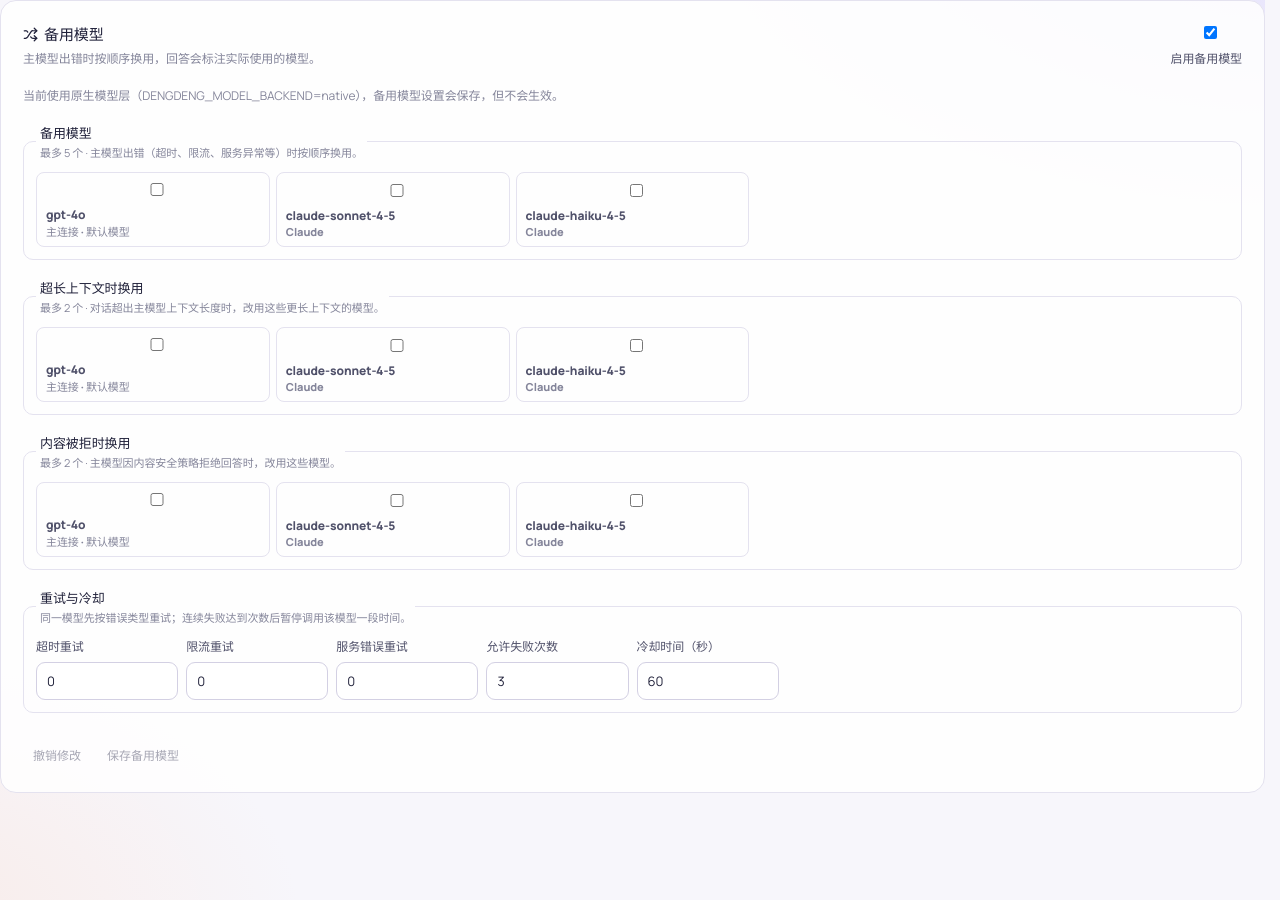
ModelFallbackSettings › reloads after a revision conflict and warns when the native backend is active
The width and height of the screenshot is (1280, 900).
expect the text "当前使用原生模型层（DENGDENG_MODEL_BACKEND=native），备用模型设置会保存，但不会生效。" is shown: met, box [23, 87, 564, 104]
Click the checkbox named "备用模型：claude-sonnet-4-5（Claude）" at (397, 190), box [290, 184, 504, 197]
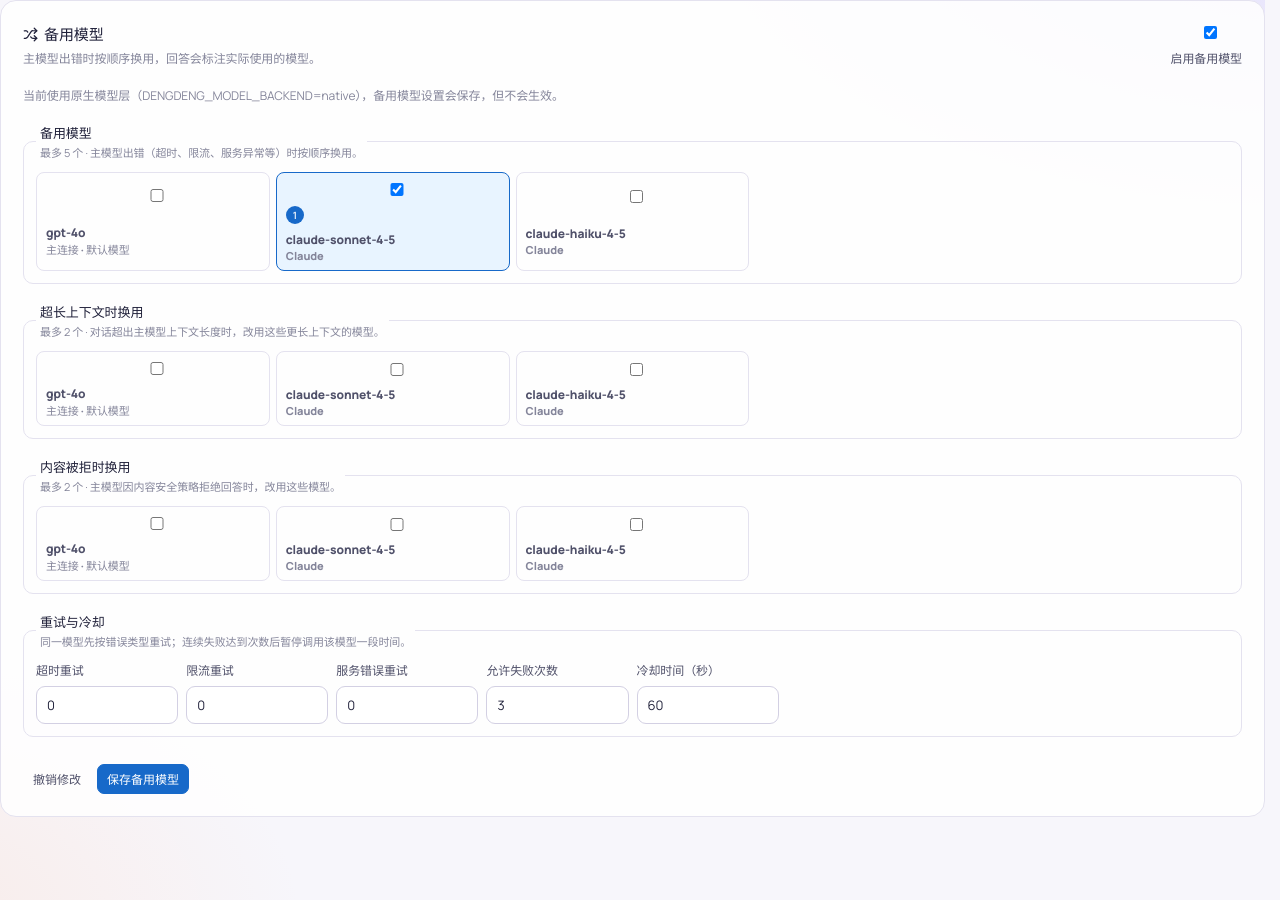
Click the button "保存备用模型" at (143, 779), box [97, 764, 189, 794]
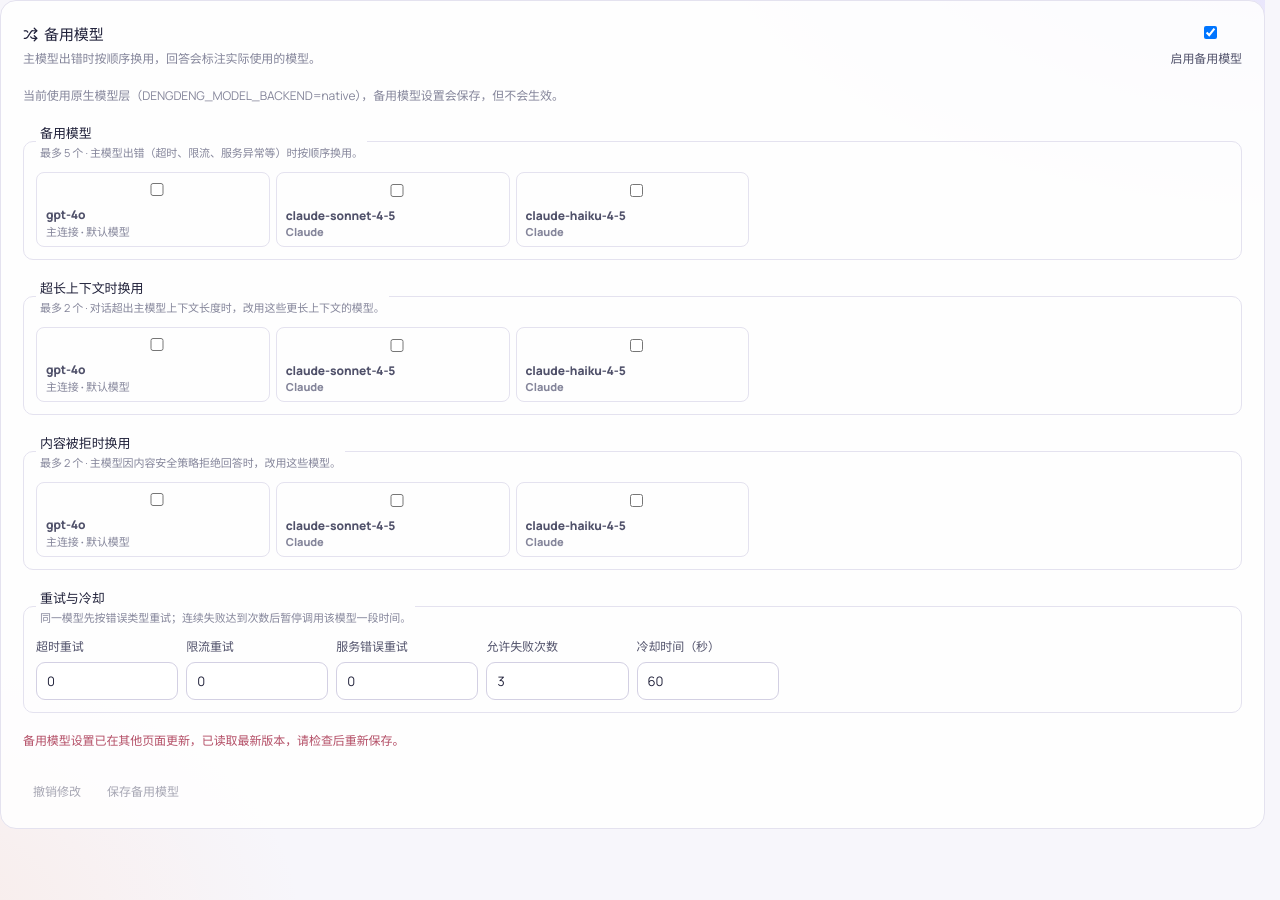
expect the message shows "已在其他页面更新": met, box [23, 732, 404, 749]
